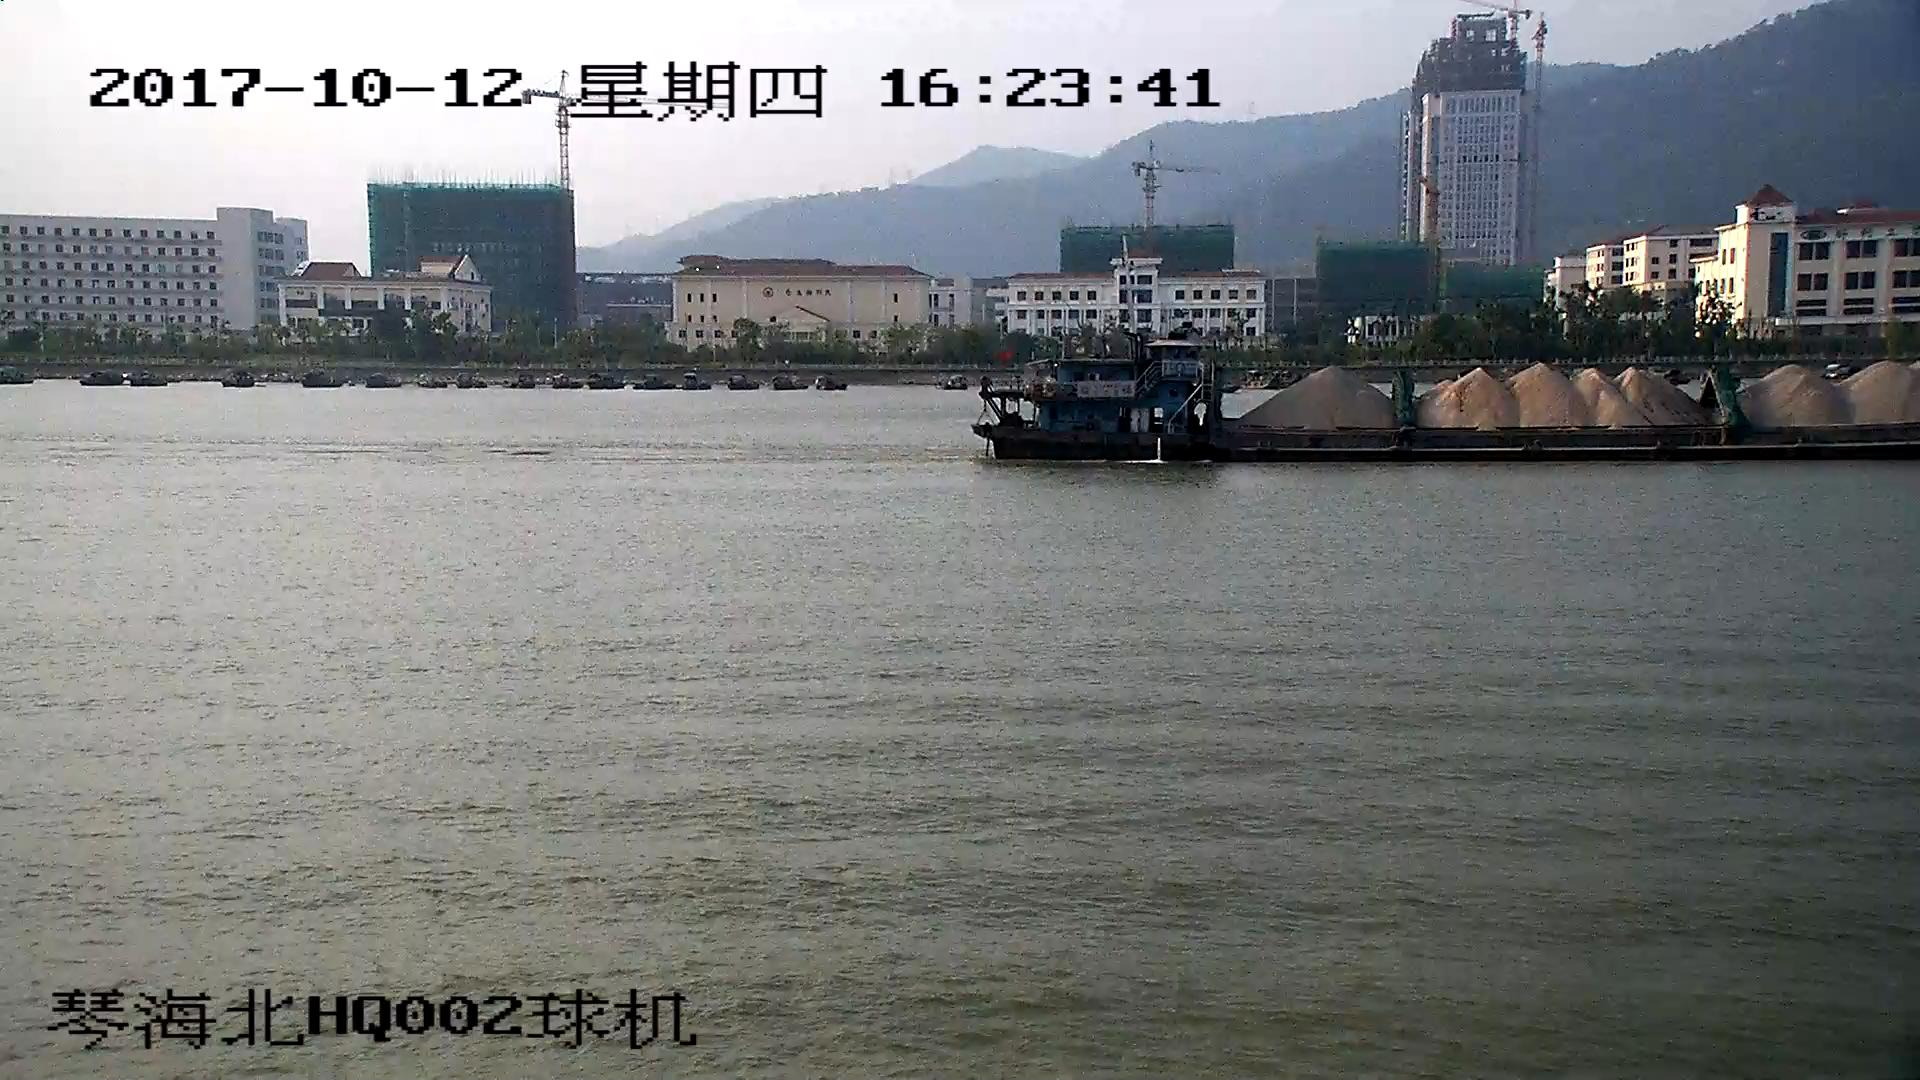ore carrier: (974, 338, 1920, 461)
